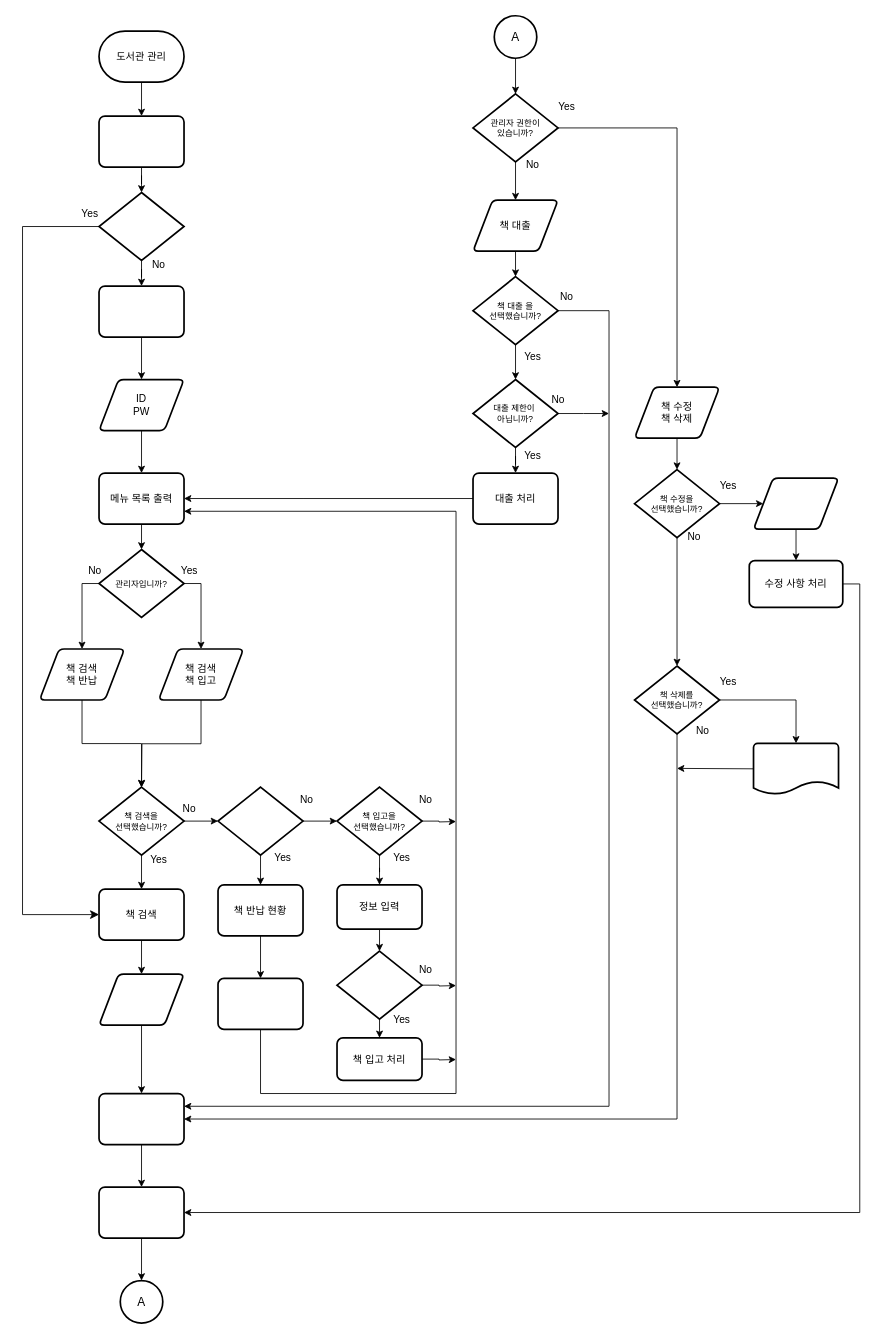
This 881x1338 diagram has some shape labels left out. The shapes that lost their labels are listed below. From the top down, each one's centre as x and y in pixels, then its label:
At (x=141, y=141): "로그인과 비회원 선택창".
At (x=141, y=226): "비회원 입니까?".
At (x=141, y=311): "로그인 입력".
At (x=795, y=503): "수정 가능 항목 리스트".
At (x=795, y=768): "삭제 확인 메세지".
At (x=260, y=821): "책 반납을 선택했습니까?".
At (x=141, y=999): "제목 장르 출판사".
At (x=260, y=1003): "책 반납".
At (x=379, y=985): "책 정보의 조건이 만족합니까?".
At (x=141, y=1118): "책 리스트".
At (x=141, y=1212): "책 상세정보".
